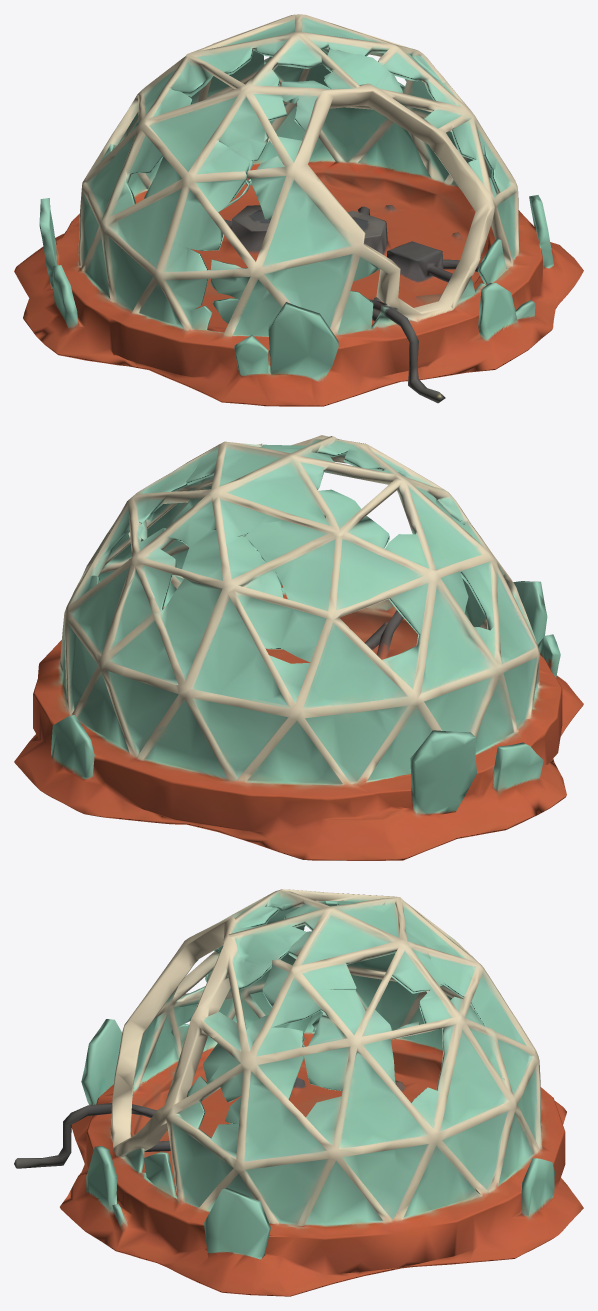
The model's file is dome_wreck1.glb.
3 views of the same model, one above another, from view 1: azimuth 30°, elevation 25°; view 2: azimuth 150°, elevation 25°; view 3: azimuth 270°, elevation 25° (orthographic). The views are drawn at different scales.
Parts seen in each view (by area): view 1: tripo_node_3cfee424-c643-41f2-a080-f5e5e4d34d39; view 2: tripo_node_3cfee424-c643-41f2-a080-f5e5e4d34d39; view 3: tripo_node_3cfee424-c643-41f2-a080-f5e5e4d34d39.
Boxes of the visible parts, x1,y1,x2,y2 form: tripo_node_3cfee424-c643-41f2-a080-f5e5e4d34d39: (14, 14, 583, 406); tripo_node_3cfee424-c643-41f2-a080-f5e5e4d34d39: (14, 435, 583, 860); tripo_node_3cfee424-c643-41f2-a080-f5e5e4d34d39: (14, 889, 583, 1296).
Bounding box in the file's own units: 1 × 0.5087 × 0.9774.
Materials: 1 (1 with a texture image).
